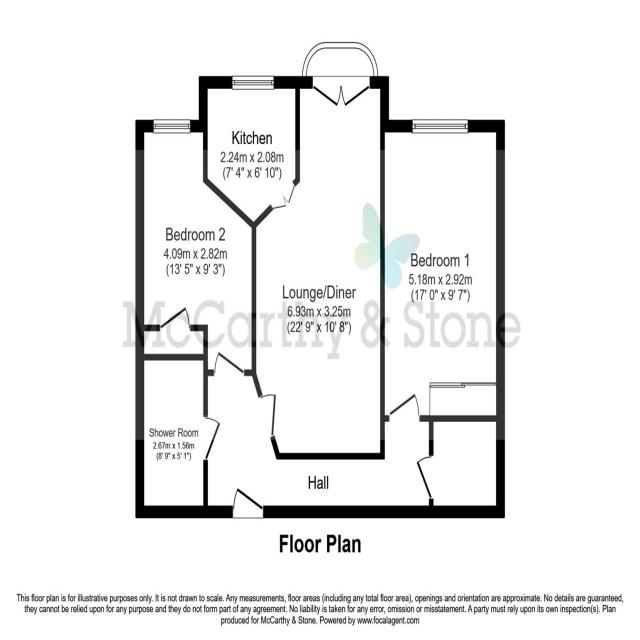DOOR: (231, 485, 265, 519), (388, 392, 421, 423), (257, 393, 277, 440), (202, 415, 222, 462), (213, 349, 246, 377), (415, 454, 434, 501), (159, 305, 191, 332)
DOUBLE DOOR: (312, 75, 369, 107), (269, 180, 296, 210)
ROOM: (251, 75, 389, 461), (380, 120, 506, 422), (135, 119, 257, 376), (198, 76, 300, 229)
WINDOW: (411, 118, 469, 135), (232, 75, 274, 90), (153, 119, 191, 134)
